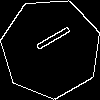I: (26, 23, 72, 58)
